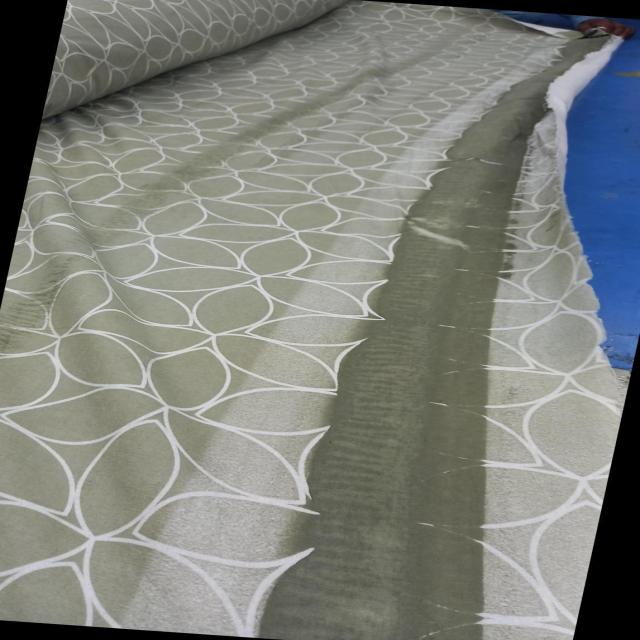baekra: (257, 11, 615, 640)
